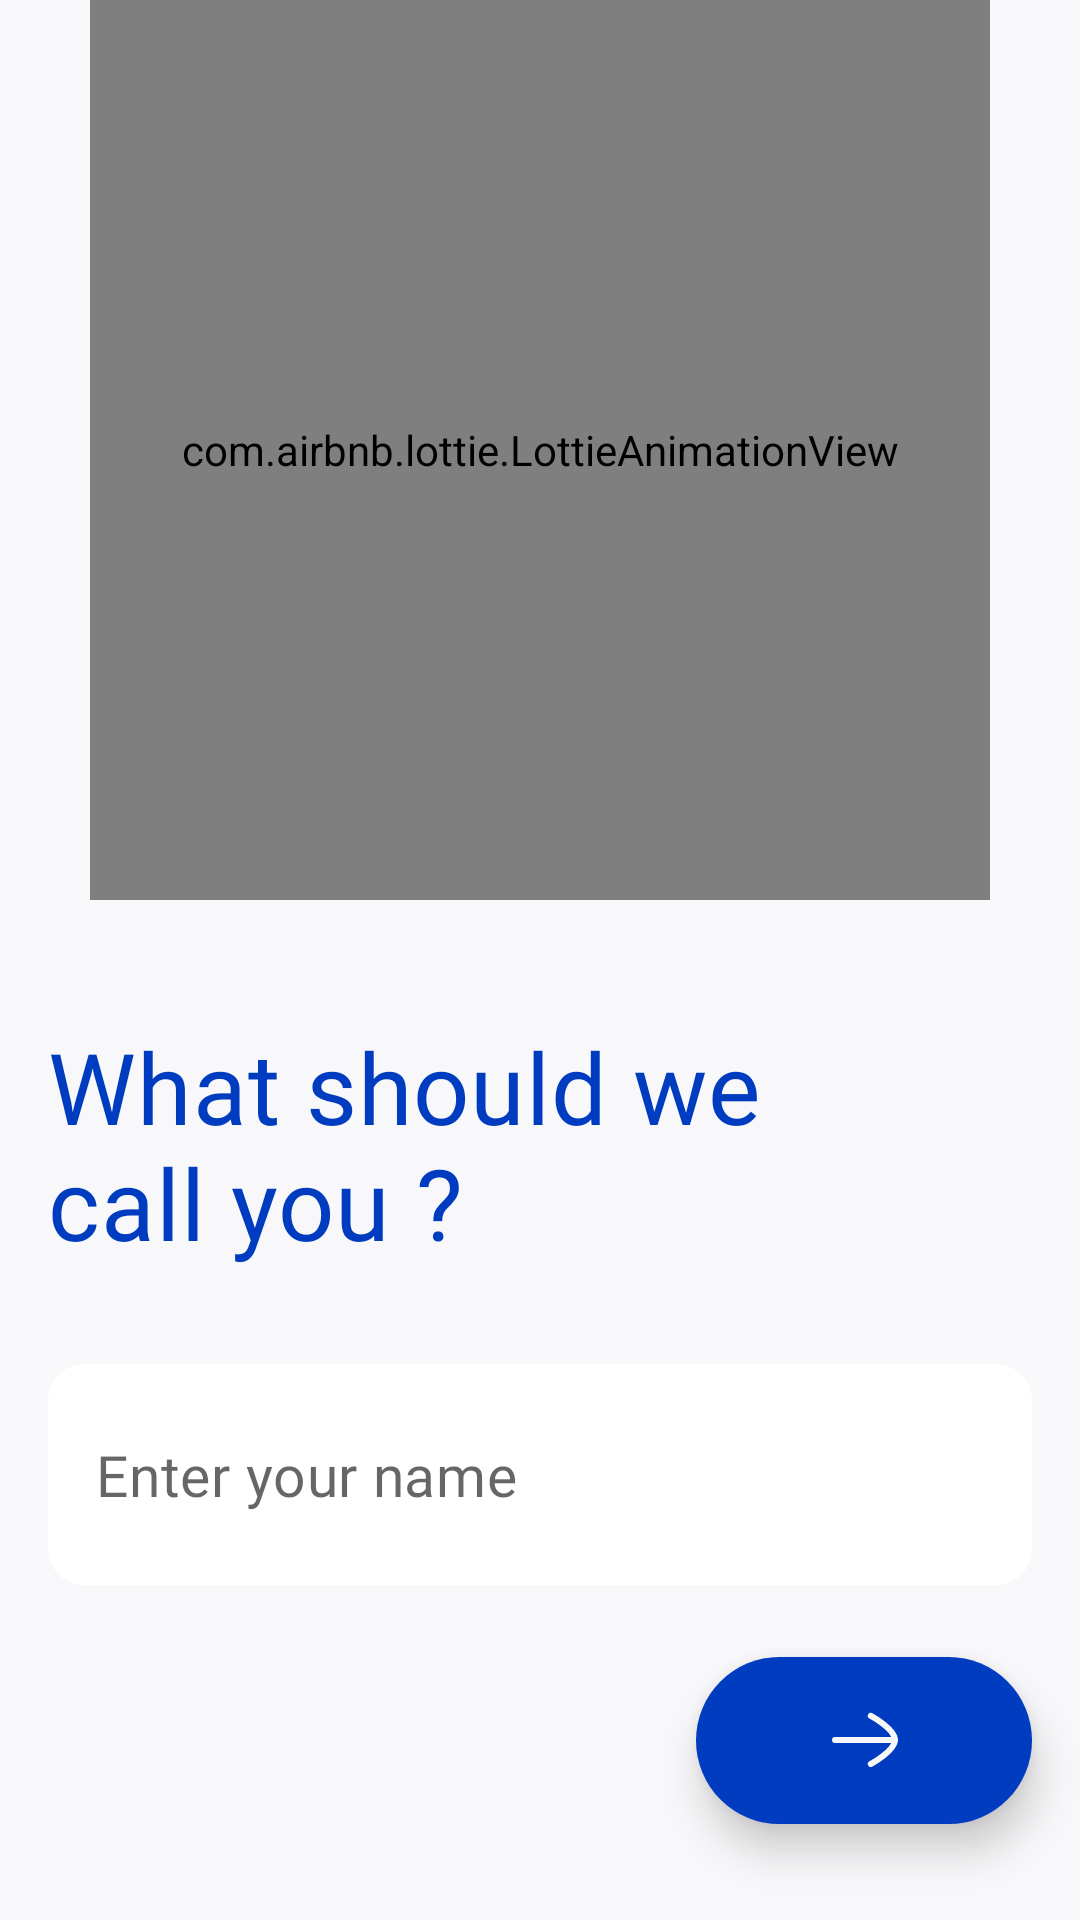

Locate icon controls on the screen. Image size 1080w x 1920h, boxes as (x1, y1, x2, y2).
next arrow: (696, 1657, 1032, 1824)
